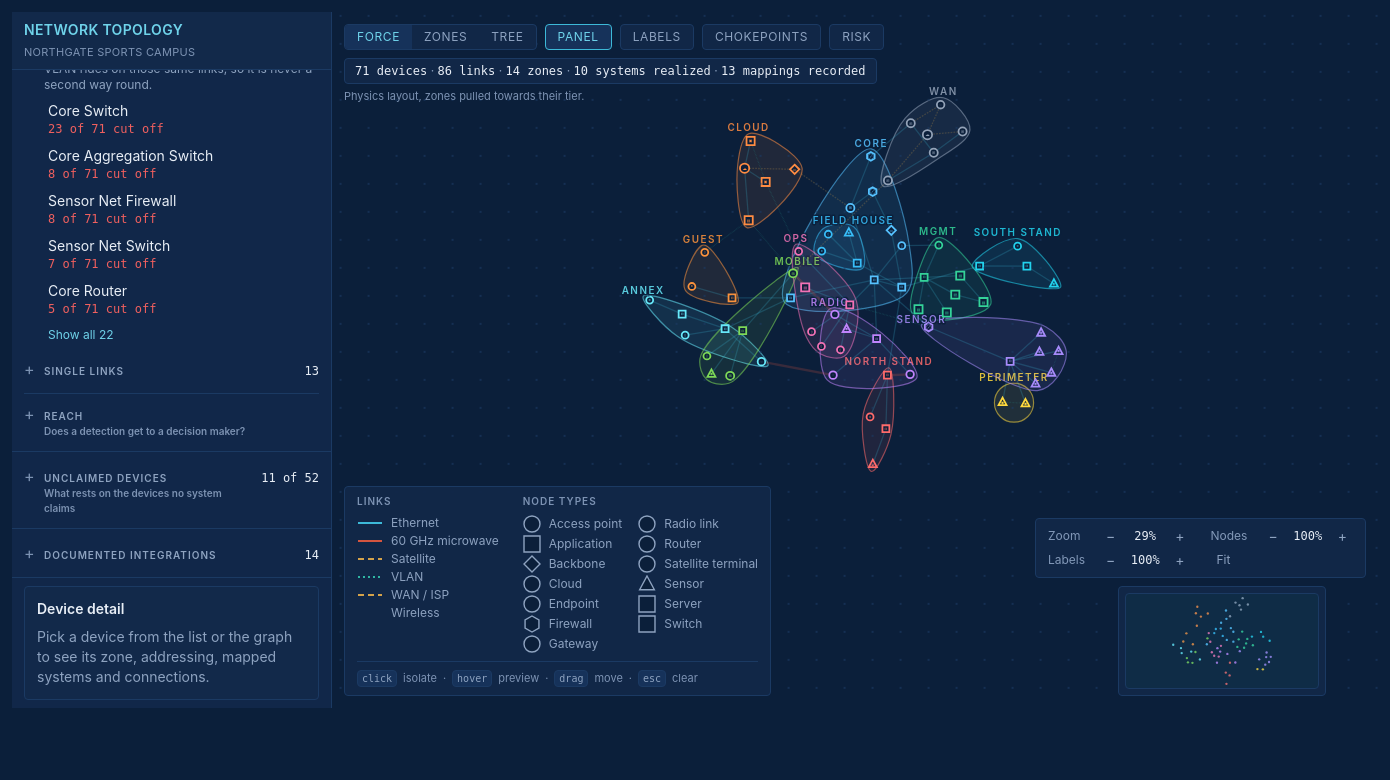
Test case: Unclaimed devices › sorts them into groups that cover each device once
(page scrolled)
Click the button that starts with "Unclaimed devices": click(172, 490) x1=24 y1=460 x2=319 y2=520
(page scrolled)
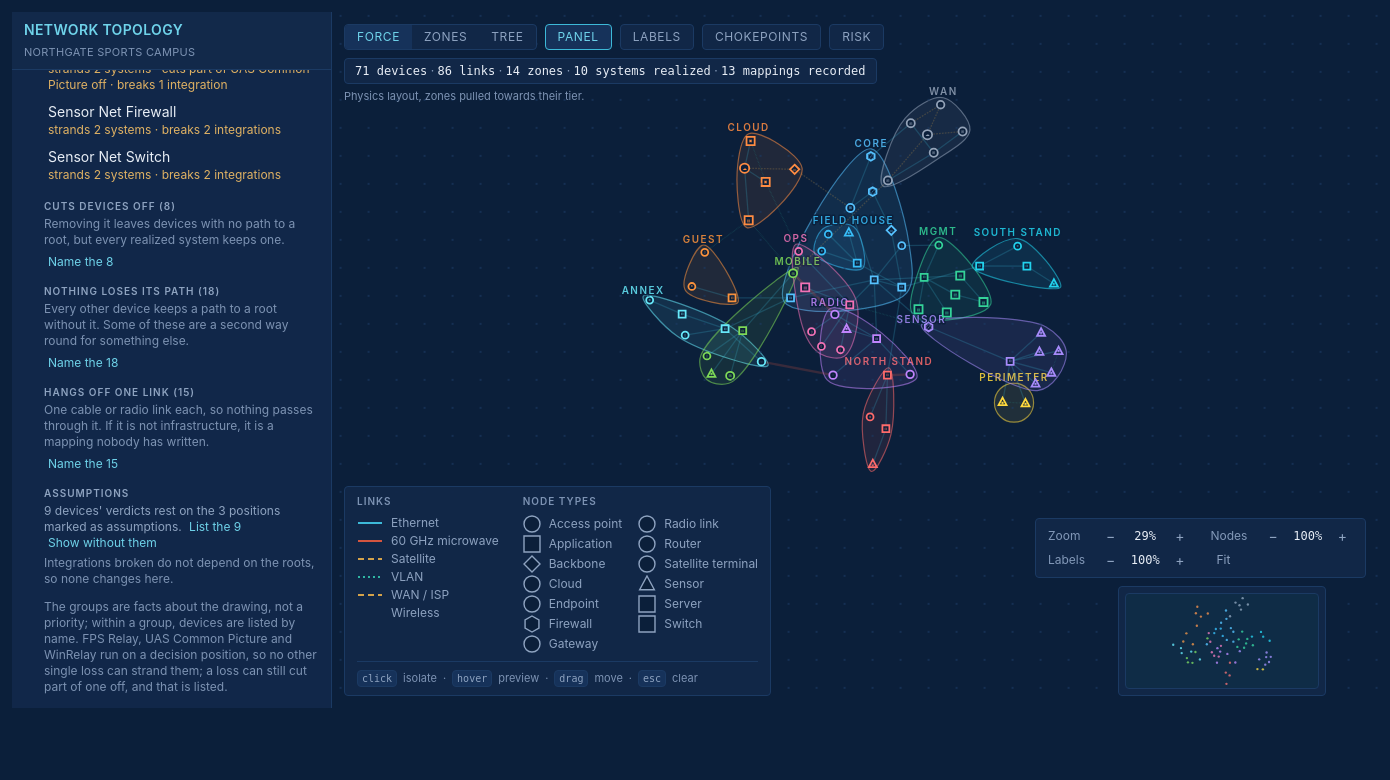
Result: the heading "Cuts devices off (8)" is shown at x1=44 y1=200 x2=176 y2=212
Result: the heading "Nothing loses its path (18)" is shown at x1=44 y1=285 x2=220 y2=297
Result: the heading "Hangs off one link (15)" is shown at x1=44 y1=386 x2=195 y2=398
